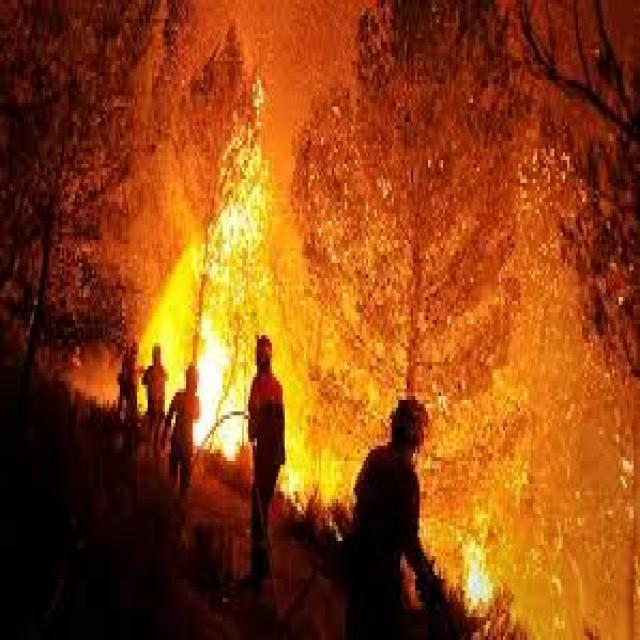Fire: (384, 164, 640, 640), (101, 173, 372, 498)
